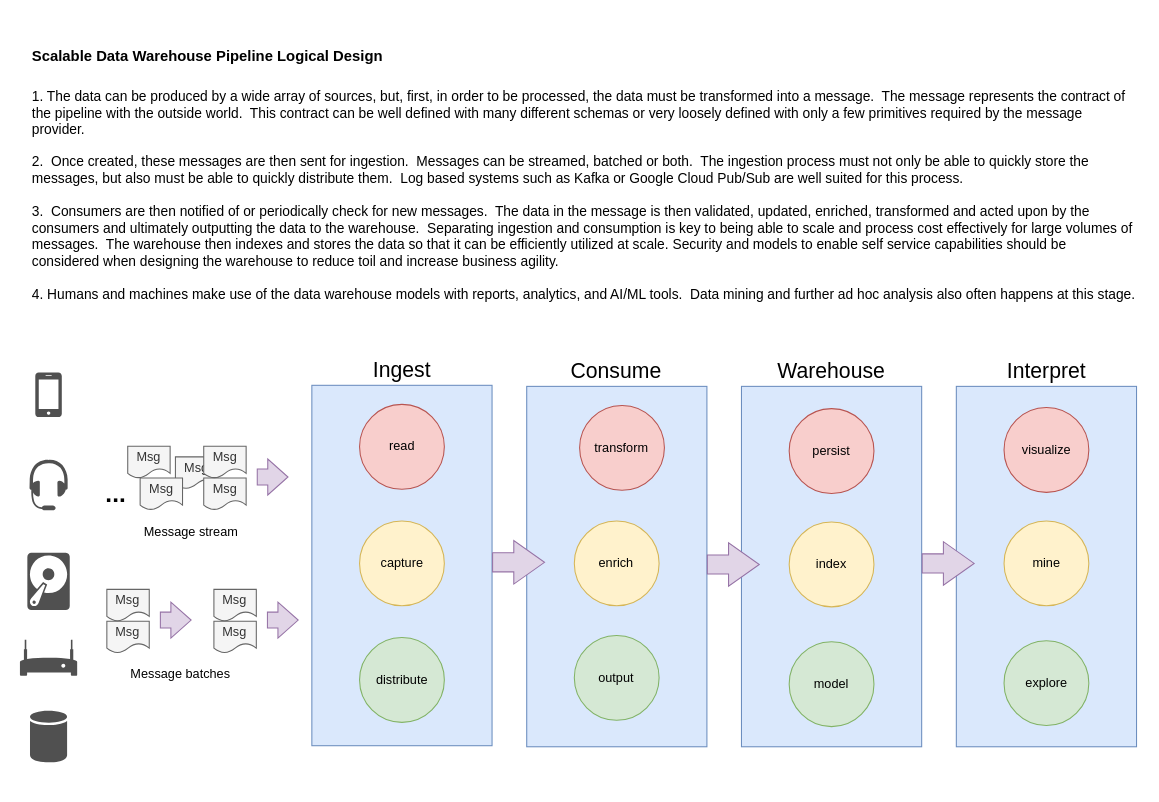
Some shapes in this 1159 by 802 pixel diagram are drawn without their labels. The shapes that lost their labels are listed below. From the top down, each one's centre as x and y in pixels, then its label:
At point 48,394: "App".
At point 48,484: "AV Stream".
At point 48,581: "Cron".
At point 48,657: "IoT Device".
At point 48,736: "Database".
